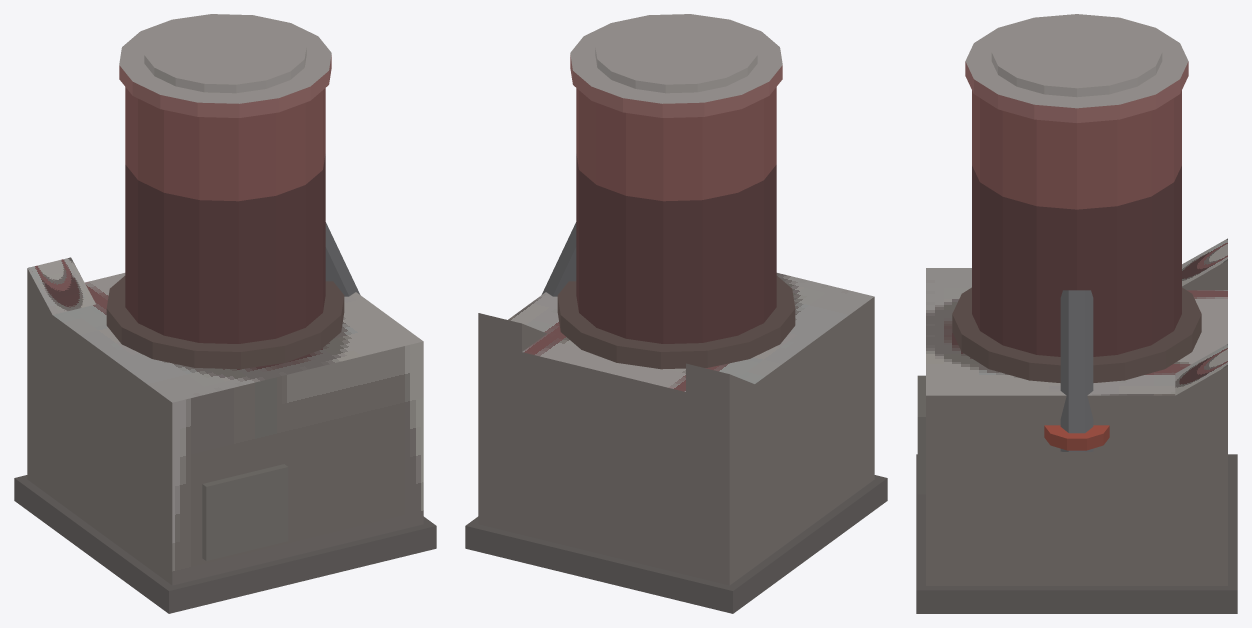
Rendered from Building_AncientFuelNode.glb.
3 renders of one model, left to right at view 1: azimuth 30°, elevation 25°; view 2: azimuth 150°, elevation 25°; view 3: azimuth 270°, elevation 25°, orthographic. The views are drawn at different scales.
Visible parts, largest first — view 1: AncientFuelNode; view 2: AncientFuelNode; view 3: AncientFuelNode.
Part boxes in pixels (bbox=[...]): AncientFuelNode: bbox=[14, 14, 436, 613]; AncientFuelNode: bbox=[465, 14, 887, 613]; AncientFuelNode: bbox=[916, 14, 1237, 613].
Size of the model in its own units: 1.05 by 1.66 by 0.98.
Materials: 1 (1 with a texture image).
